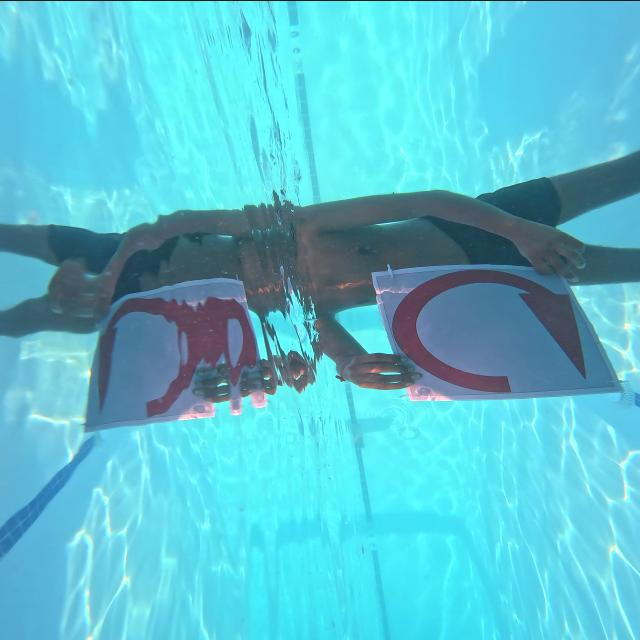red_side: (399, 251, 593, 405)
